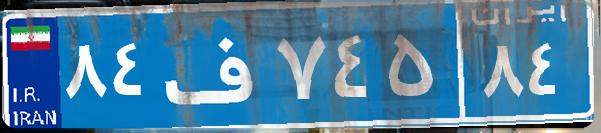4: (330, 28, 385, 110), (110, 28, 158, 105), (525, 38, 570, 115)
5: (385, 28, 445, 110)
7: (273, 28, 330, 110)
8: (57, 26, 110, 107), (475, 38, 525, 113)
ف: (158, 15, 273, 115)
